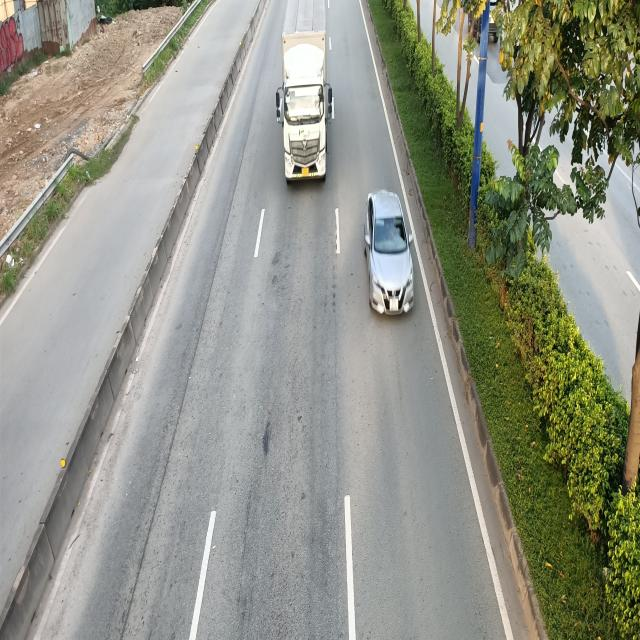car: (362, 187, 413, 314)
truck: (274, 1, 331, 183)
